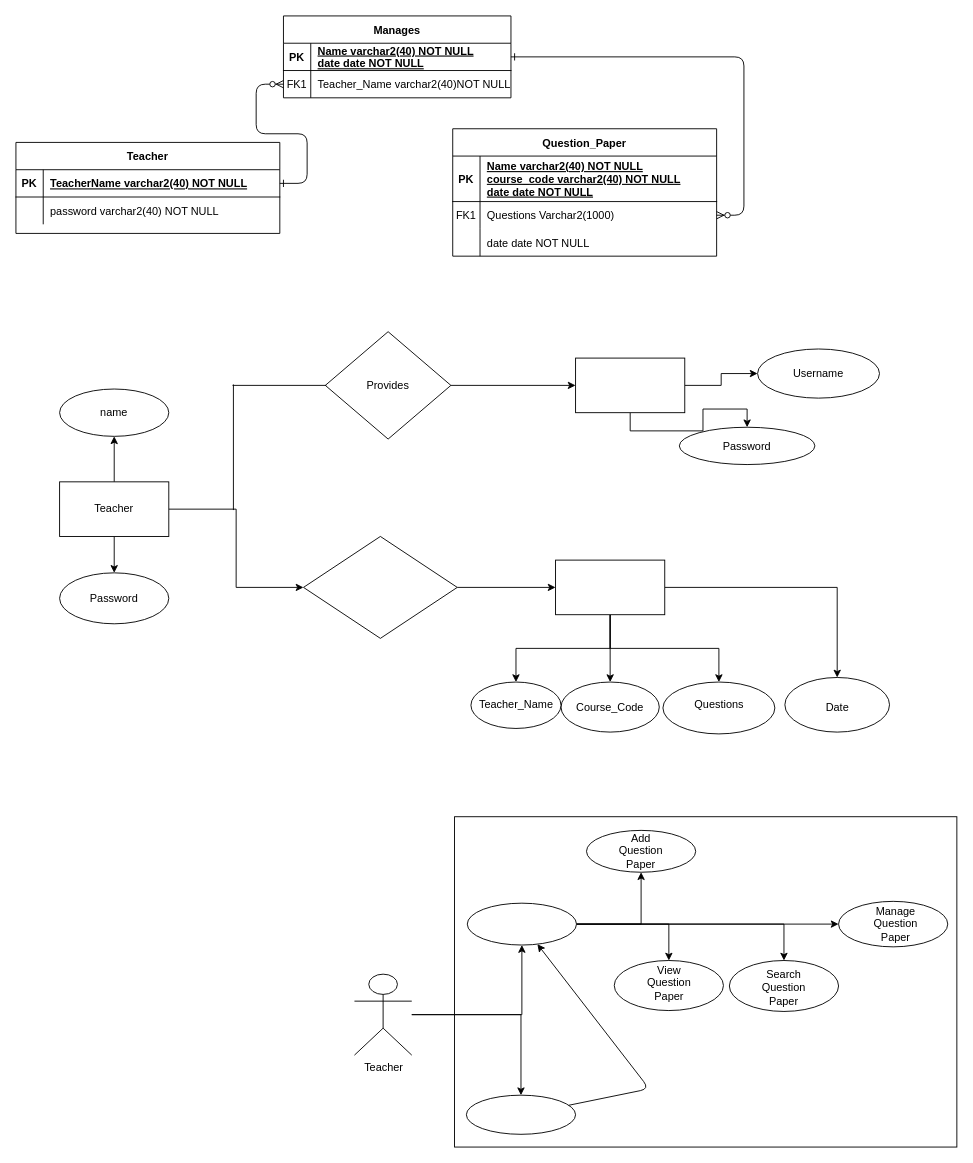
Some shapes in this 973 by 1163 pixel diagram are drawn without their labels. Each missing label, with the centre of its shape:
"Adds, Views, Searches, Manages" goes at (380,587).
"Credendials" goes at (630,385).
"Login" goes at (521,923).
"Question Papers" goes at (610,587).
"Signup" goes at (520,1114).
